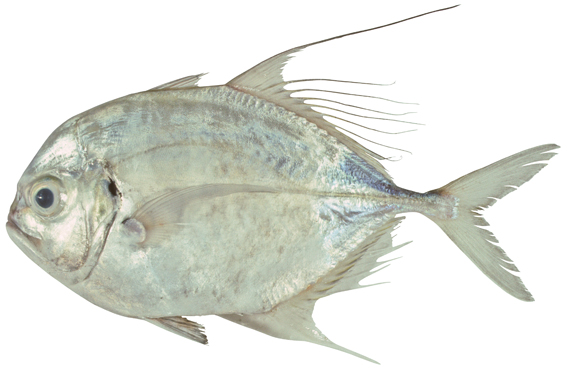fish: (6, 5, 561, 366)
